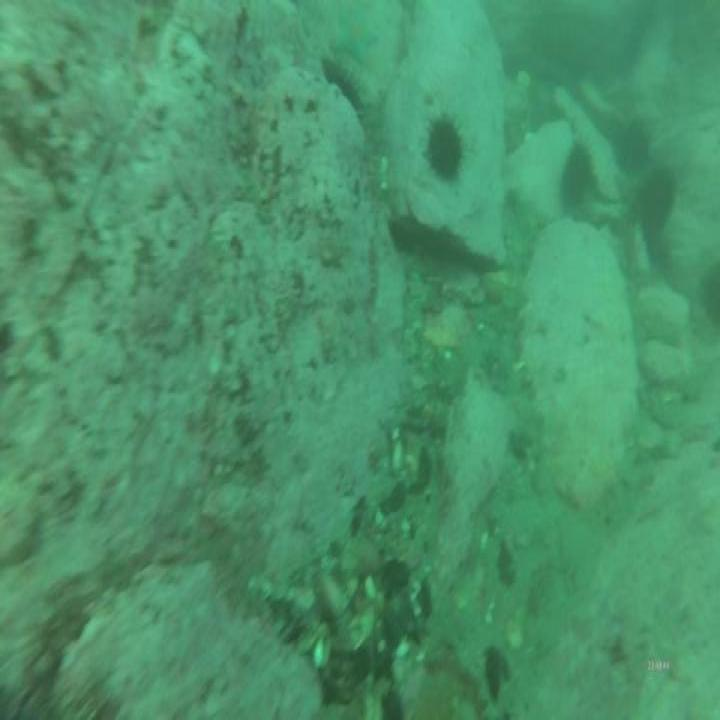echinus: (420, 103, 468, 190), (635, 165, 679, 242), (319, 53, 366, 119), (613, 115, 655, 182), (560, 138, 597, 210), (696, 256, 720, 332)
